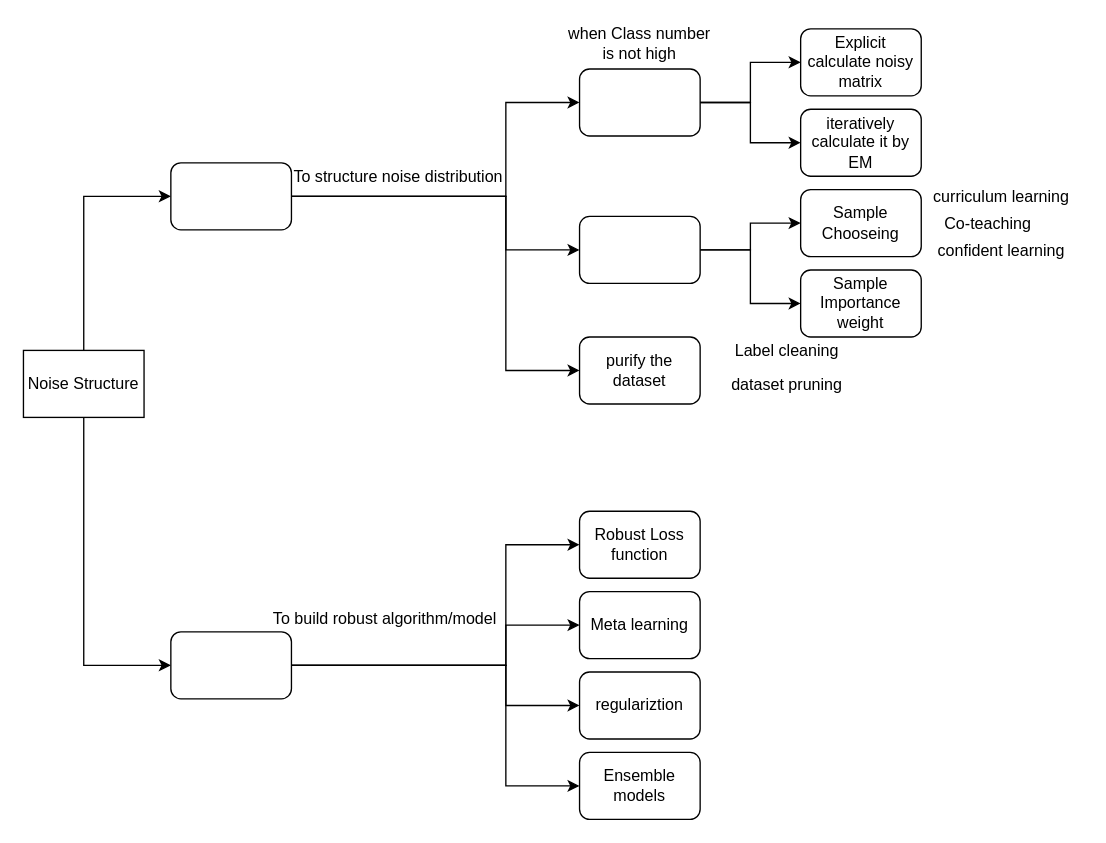
Image size: 1106x843. Some labels were removed from this diagram. Here are the shapes that lost their labels. From the top down, the centre of each, then its label:
(x=639, y=102): Noise transition matrix / noisy channel
(x=230, y=195): noise is domain specific or prior information
(x=639, y=249): Instances can be ranked
(x=230, y=664): noise is random
